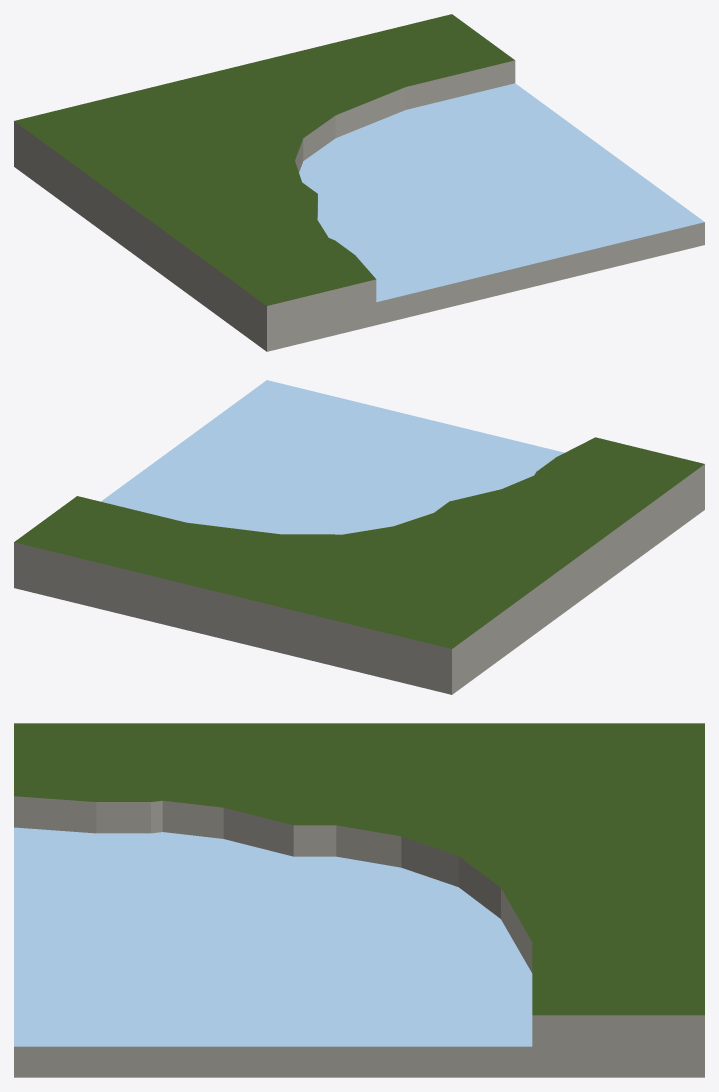
File: Terrain_Modular_Tiles_Grass_Rock_Water_Edge_Corner_Outer_03.fbx
The picture shows the model from 3 angles, top to bottom: view 1: azimuth 30°, elevation 25°; view 2: azimuth 150°, elevation 25°; view 3: azimuth 270°, elevation 25°; orthographic projection. The views are drawn at different scales.
Parts seen in each view (by area): view 1: Terrain_Modular_Tiles_Grass_Rock_Water_Edge_Corner_Outer_03; view 2: Terrain_Modular_Tiles_Grass_Rock_Water_Edge_Corner_Outer_03; view 3: Terrain_Modular_Tiles_Grass_Rock_Water_Edge_Corner_Outer_03.
Boxes of the visible parts, left/top/right/bottom form: Terrain_Modular_Tiles_Grass_Rock_Water_Edge_Corner_Outer_03: left=14, top=14, right=704, bottom=351; Terrain_Modular_Tiles_Grass_Rock_Water_Edge_Corner_Outer_03: left=14, top=380, right=704, bottom=694; Terrain_Modular_Tiles_Grass_Rock_Water_Edge_Corner_Outer_03: left=14, top=723, right=704, bottom=1077.
Bounding box in the file's own units: 118 × 11.81 × 118.
